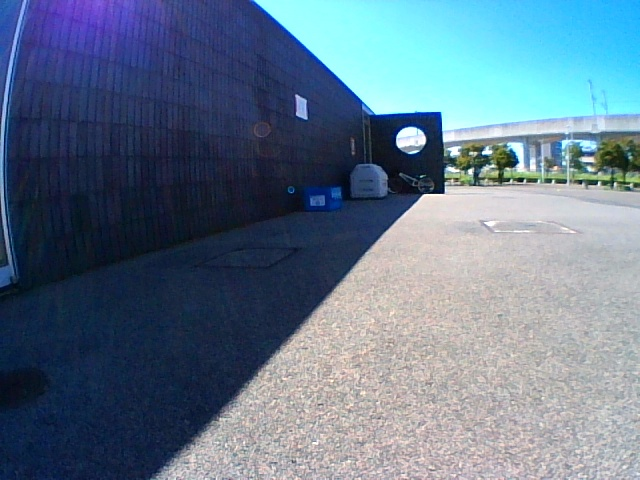blue_box: (306, 187, 341, 210)
tag: (310, 195, 325, 206)
